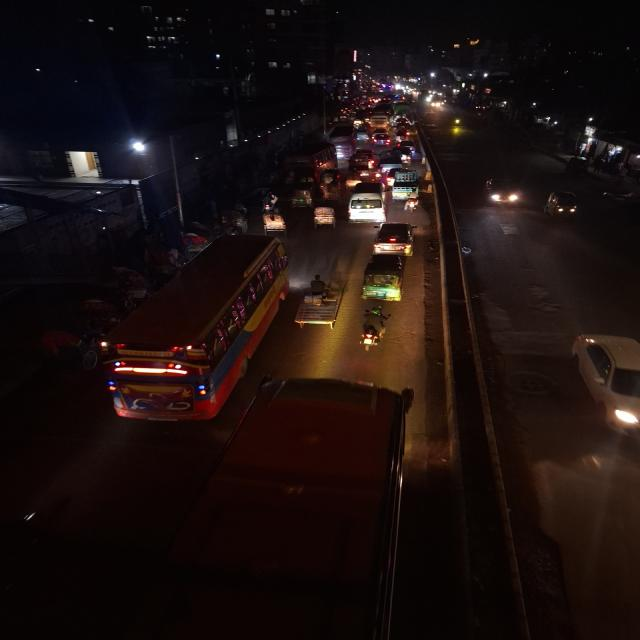bus: (91, 233, 294, 427), (281, 142, 334, 185), (369, 104, 393, 130)
car: (570, 329, 640, 447), (345, 181, 387, 225), (371, 220, 420, 256), (481, 173, 522, 210), (327, 123, 356, 153), (370, 129, 391, 146)
cng: (359, 254, 412, 305), (541, 187, 583, 225), (309, 198, 338, 232), (259, 203, 288, 234), (292, 180, 315, 206), (319, 167, 339, 191)
motorcycle: (357, 305, 392, 355), (402, 193, 422, 215), (449, 115, 463, 128)
pickup_van: (293, 273, 341, 335), (394, 171, 420, 202), (378, 153, 404, 170), (348, 156, 369, 175)
rickshaw: (308, 198, 339, 232), (258, 204, 289, 233)
